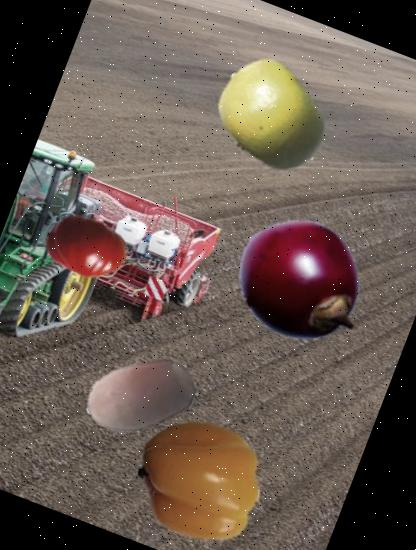Hazelnut: (68, 325, 209, 466)
Pepper: (118, 401, 278, 550)
Pomelo: (196, 42, 346, 193)
Tamarillo: (216, 196, 386, 367)
Tomato: (33, 194, 139, 300)
